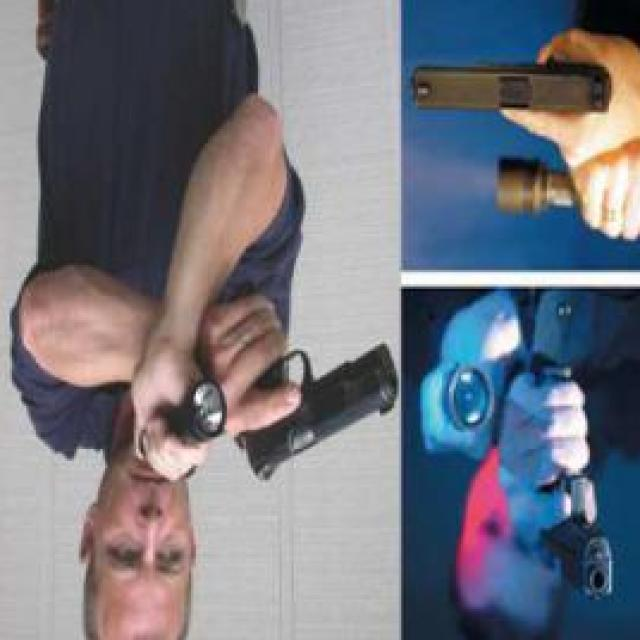pistol: (217, 282, 393, 485), (528, 358, 617, 612), (408, 52, 610, 122)
